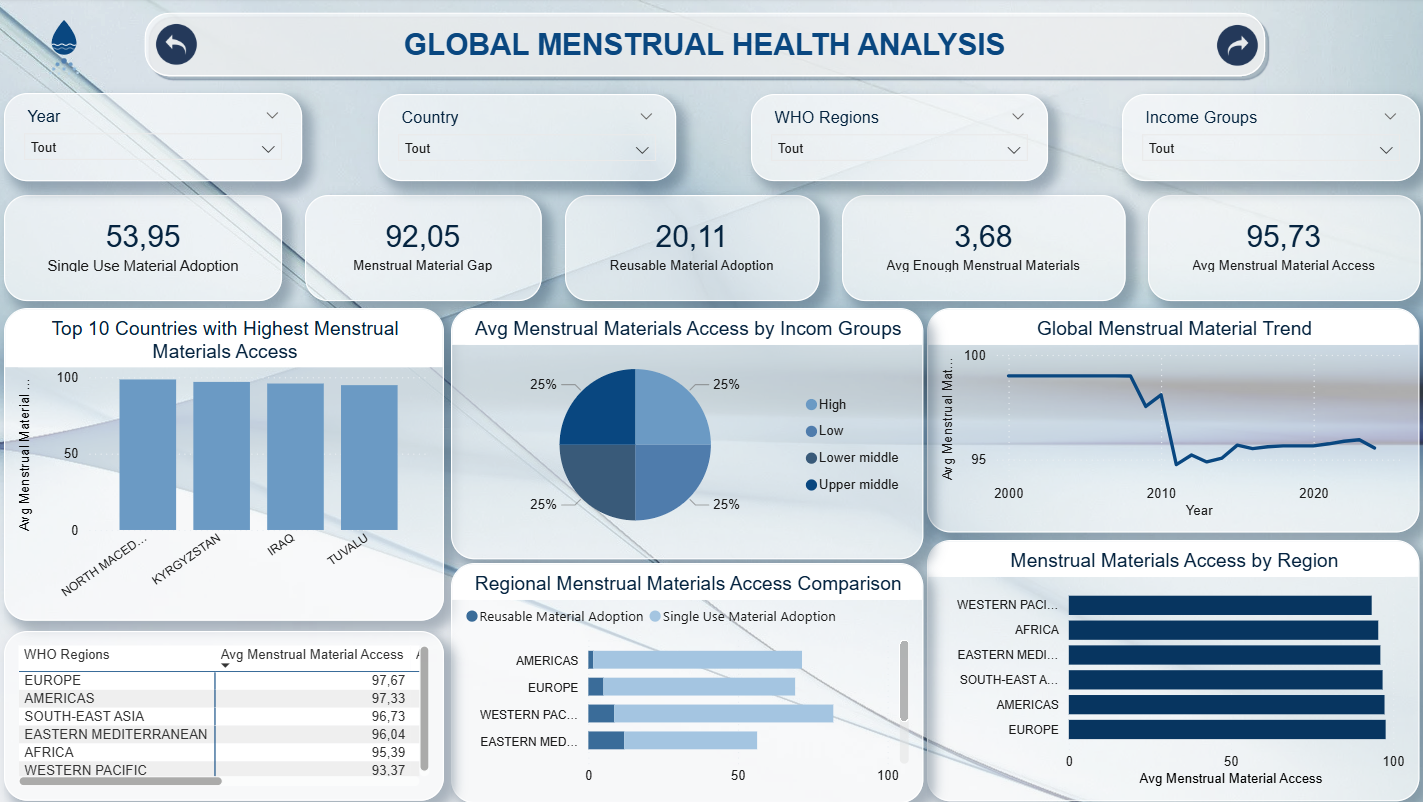

Layout of this report page (visuals, bound fields, positions):
{"tool":"powerbi","page":{"name":"Menstrual Health Analysis","canvas":[1280,720],"ordinal":3},"visuals":[{"type":"cardVisual","fields":{"Data":["MENSTRUAL_HEALTH.Avg Menstrual Material Access"]},"box":[1030.9,176.6,243.5,94.8],"z":0},{"type":"cardVisual","fields":{"Data":["MENSTRUAL_HEALTH.Single Use Material Adoption"]},"box":[6.5,176.6,249.1,94.8],"z":1000},{"type":"cardVisual","fields":{"Data":["MENSTRUAL_HEALTH.Avg Enough Menstrual Materials"]},"box":[756.7,176.6,253.8,94.8],"z":2000},{"type":"cardVisual","fields":{"Data":["MENSTRUAL_HEALTH.Menstrual Material Gap"]},"box":[276.1,176.6,211.9,94.8],"z":3000},{"type":"cardVisual","fields":{"Data":["MENSTRUAL_HEALTH.Reusable Material Adoption"]},"box":[508.5,176.6,227.7,94.8],"z":4000},{"type":"lineChart","title":"Global Menstrual Material Trend","fields":{"Category":["YEAR.value"],"Y":["MENSTRUAL_HEALTH.Avg Menstrual Material Access"]},"box":[832.8,277.6,441.5,201.5],"z":5000},{"type":"clusteredBarChart","title":"Menstrual Materials Access by Region","fields":{"Category":["WHO_REGIONS.who_regions"],"Y":["MENSTRUAL_HEALTH.Avg Menstrual Material Access"]},"box":[832.8,485.4,441.5,233.7],"z":6000},{"type":"columnChart","title":"Top 10 Countries with Highest Menstrual Materials Access","fields":{"Category":["COUNTRY.country_name"],"Y":["MENSTRUAL_HEALTH.Avg Menstrual Material Access"]},"box":[6.5,277.9,394.1,279.8],"z":7000},{"type":"pieChart","title":"Avg Menstrual Materials Access by Incom Groups","fields":{"Category":["HYGIENE.income_groupings"],"Y":["MENSTRUAL_HEALTH.Avg Menstrual Material Access"]},"box":[406.2,277.9,422.9,225],"z":8000},{"type":"barChart","title":"Regional Menstrual Materials Access Comparison","fields":{"Category":["WHO_REGIONS.who_regions"],"Y":["MENSTRUAL_HEALTH.Reusable Material Adoption","MENSTRUAL_HEALTH.Single Use Material Adoption"]},"box":[406.2,505.7,422.9,214.7],"z":9000},{"type":"pivotTable","title":"Avg Menstrual Materials Access by Incom Groups","fields":{"Values":["MENSTRUAL_HEALTH.Avg Menstrual Material Access","MENSTRUAL_HEALTH.Avg Enough Menstrual Materials"],"Rows":["WHO_REGIONS.who_regions"]},"box":[6.5,567,394.1,152.4],"z":10000},{"type":"slicer","fields":{"Values":["YEAR.value"]},"box":[6.4,84.8,266.8,79.4],"z":11000},{"type":"slicer","fields":{"Values":["COUNTRY.country_name"]},"box":[340.9,85.8,266.8,78.3],"z":12000},{"type":"slicer","fields":{"Values":["WHO_REGIONS.who_regions"]},"box":[675.5,85.8,265.7,78.3],"z":13000},{"type":"slicer","fields":{"Values":["INCOME_GROUPS.Income_Groups"]},"box":[1007.9,85.8,266.8,78.3],"z":14000},{"type":"shape","box":[126,7.4,1015.3,68.8],"z":15000},{"type":"image","box":[18,4.2,83.6,76.2],"z":16000},{"type":"textbox","box":[349.5,22.3,568.9,46.5],"z":17000},{"type":"image","box":[139.4,21.4,42.8,40],"z":18000},{"type":"image","box":[1089.4,22.3,42.8,40],"z":19000}]}

Visuals, with their boxes in screenshot pixels (x1, y1, x2, y2), scaled from the page's 1280x720 canvas onto the 1423x802 screenshot:
cardVisual - MENSTRUAL_HEALTH.Avg Menstrual Material Access: bbox=[1146, 197, 1417, 302]
cardVisual - MENSTRUAL_HEALTH.Single Use Material Adoption: bbox=[7, 197, 284, 302]
cardVisual - MENSTRUAL_HEALTH.Avg Enough Menstrual Materials: bbox=[841, 197, 1123, 302]
cardVisual - MENSTRUAL_HEALTH.Menstrual Material Gap: bbox=[307, 197, 543, 302]
cardVisual - MENSTRUAL_HEALTH.Reusable Material Adoption: bbox=[565, 197, 818, 302]
"Global Menstrual Material Trend" lineChart: bbox=[926, 309, 1417, 534]
"Menstrual Materials Access by Region" clusteredBarChart: bbox=[926, 541, 1417, 801]
"Top 10 Countries with Highest Menstrual Materials Access" columnChart: bbox=[7, 310, 445, 621]
"Avg Menstrual Materials Access by Incom Groups" pieChart: bbox=[452, 310, 922, 560]
"Regional Menstrual Materials Access Comparison" barChart: bbox=[452, 563, 922, 801]
"Avg Menstrual Materials Access by Incom Groups" pivotTable: bbox=[7, 632, 445, 801]
slicer - YEAR.value: bbox=[7, 94, 304, 183]
slicer - COUNTRY.country_name: bbox=[379, 96, 676, 183]
slicer - WHO_REGIONS.who_regions: bbox=[751, 96, 1046, 183]
slicer - INCOME_GROUPS.Income_Groups: bbox=[1121, 96, 1417, 183]
shape: bbox=[140, 8, 1269, 85]
image: bbox=[20, 5, 113, 90]
textbox: bbox=[389, 25, 1021, 77]
image: bbox=[155, 24, 203, 68]
image: bbox=[1211, 25, 1259, 69]
